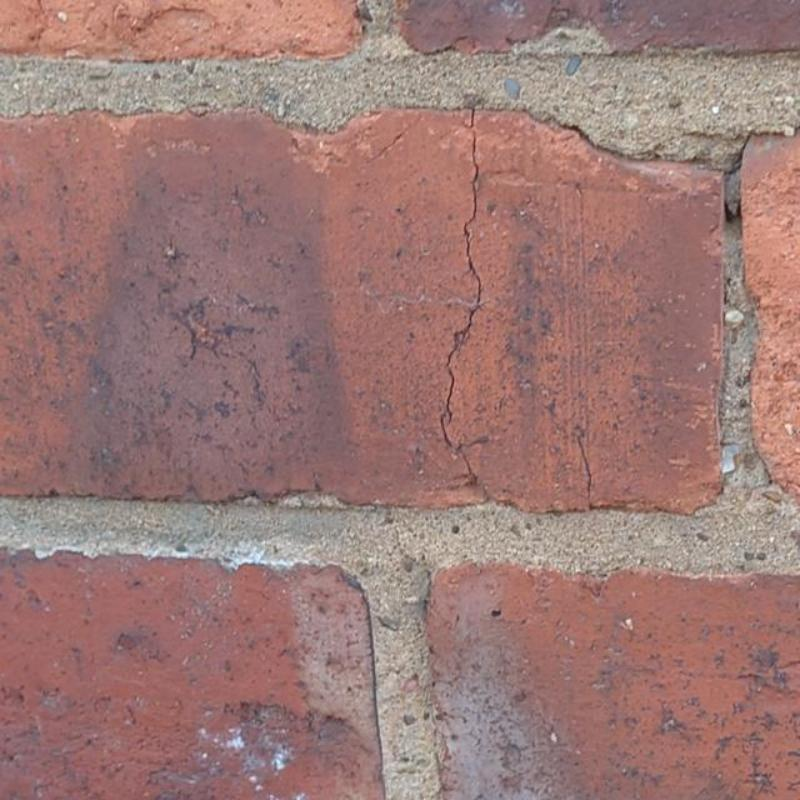pothole: (439, 110, 483, 448), (722, 125, 799, 176), (575, 435, 593, 505), (458, 439, 482, 484), (722, 201, 742, 224)
